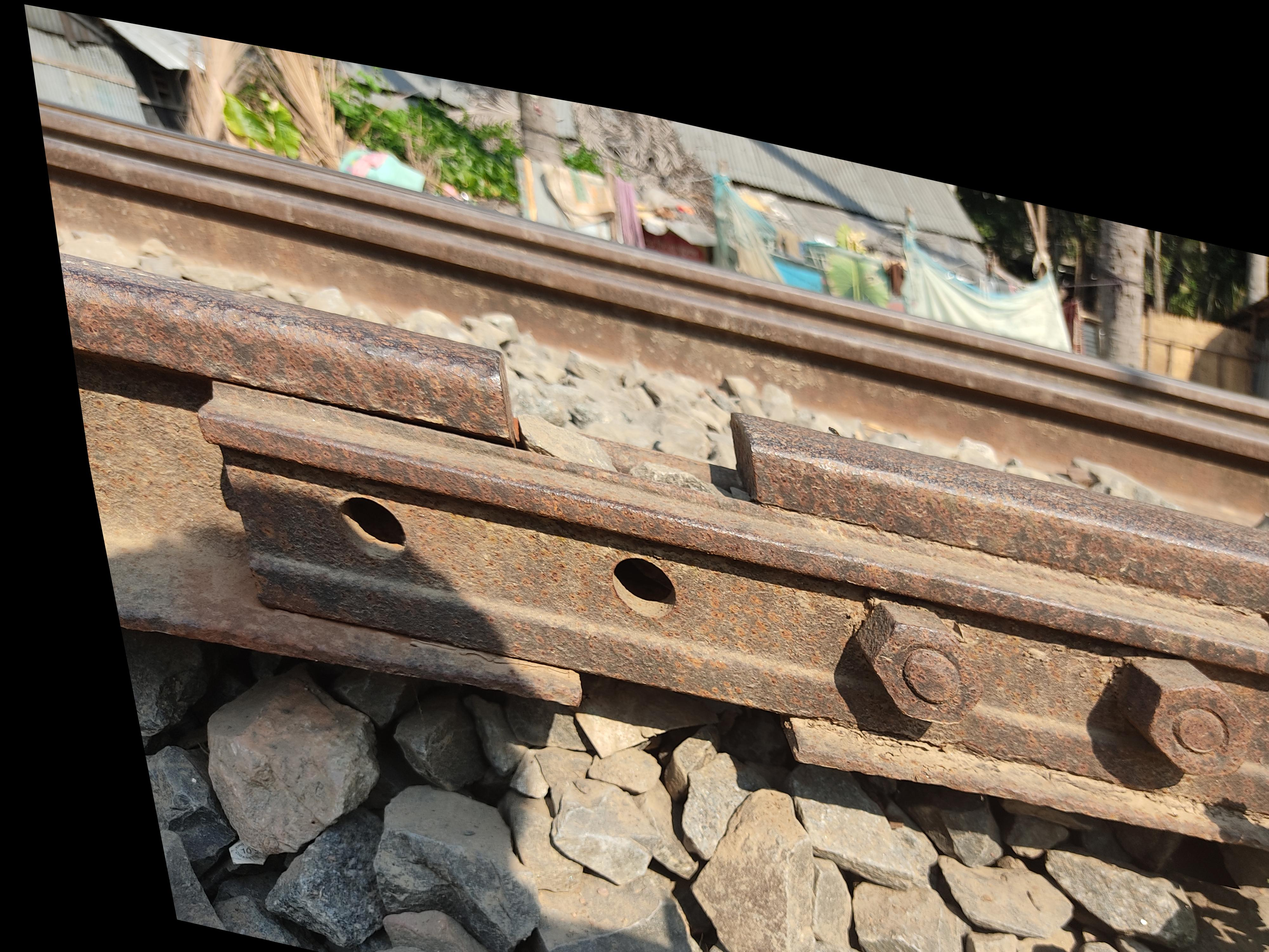person: (445, 226, 826, 532), (520, 557, 846, 780)
